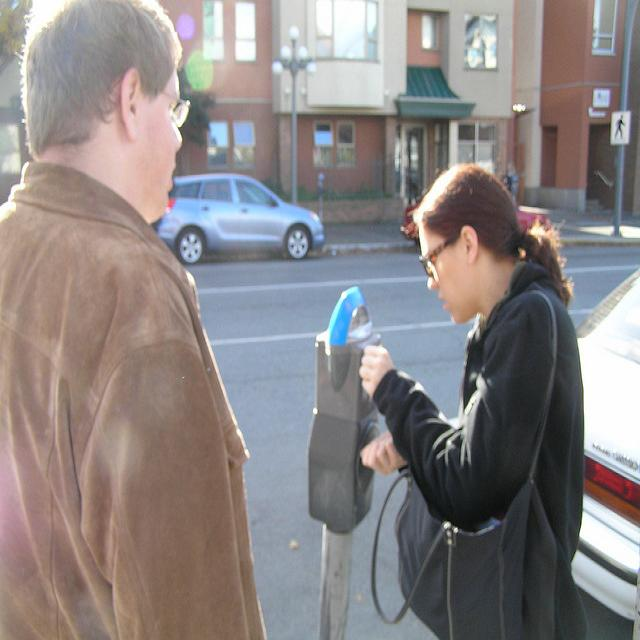Vehicle: (150, 173, 326, 266), (578, 265, 639, 499), (401, 204, 554, 248)
